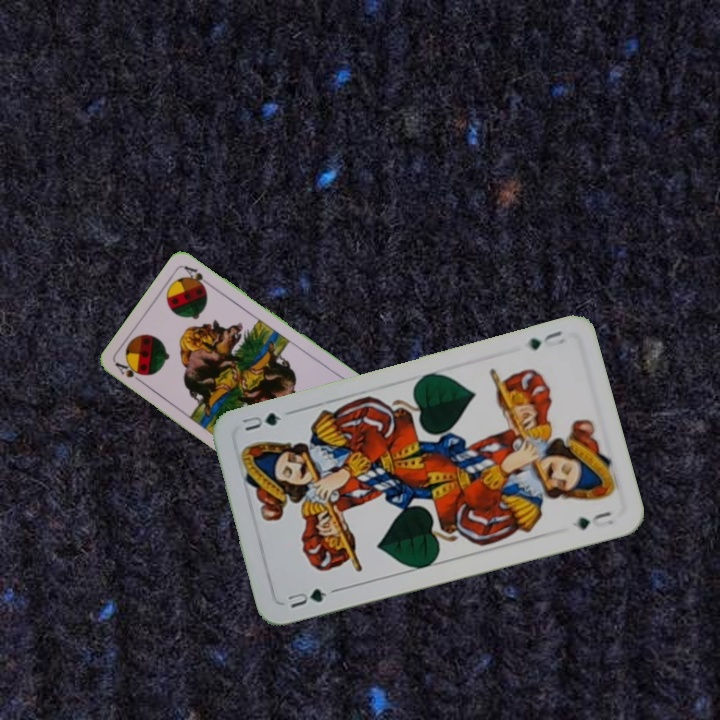GU: (282, 584, 330, 611), (523, 327, 568, 353)
SA: (112, 359, 148, 387)
